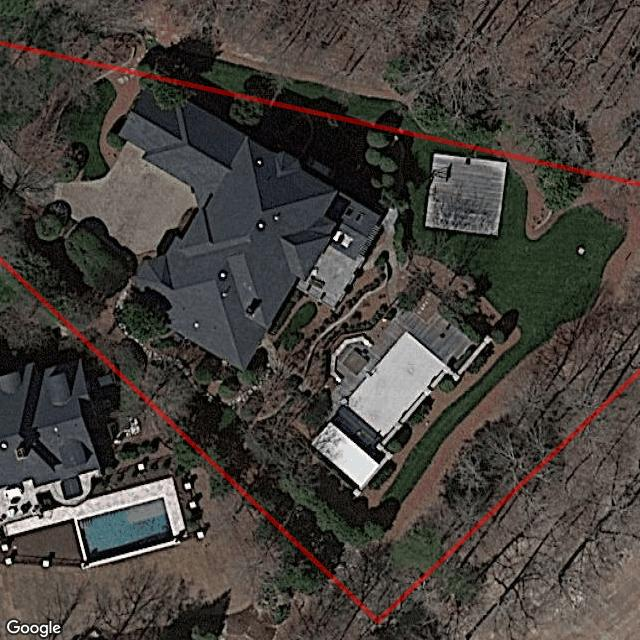Driveway: (99, 72, 140, 167), (130, 49, 144, 66)
House: (120, 82, 379, 371), (311, 329, 458, 493)
Sidewalk: (382, 327, 578, 543)
